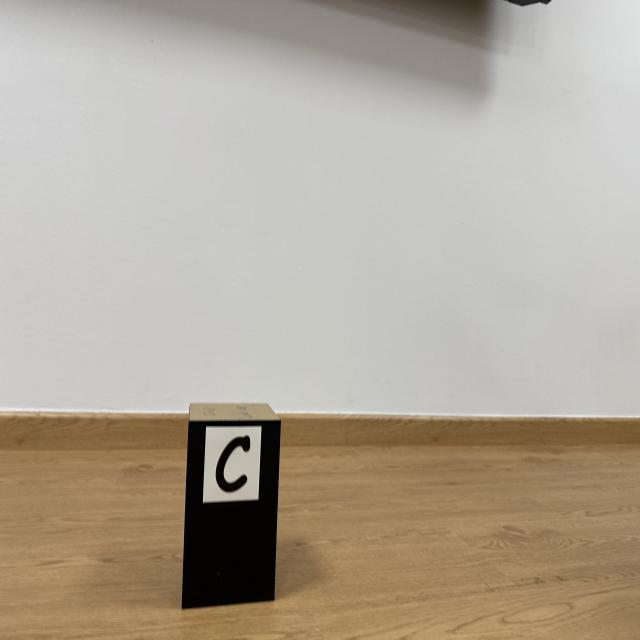C: (215, 435, 250, 492)
